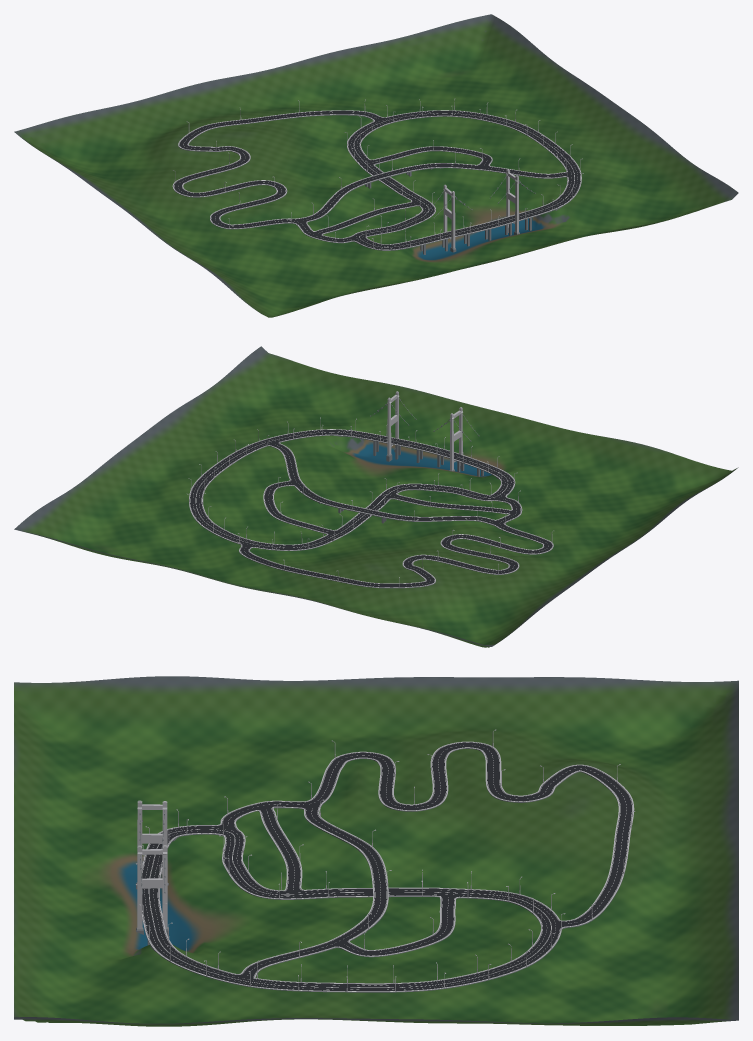
File: circuit_track.glb
3 renders of one model, top to bottom at view 1: azimuth 30°, elevation 25°; view 2: azimuth 150°, elevation 25°; view 3: azimuth 270°, elevation 25°, orthographic. The views are drawn at different scales.
Visible parts, largest first — view 1: Circuit_Terrain, Circuit_Road, Circuit_Markings, Scenery_Props; view 2: Circuit_Terrain, Circuit_Road, Circuit_Markings, Scenery_Props; view 3: Circuit_Terrain, Circuit_Road, Circuit_Markings, Scenery_Props.
Boxes of the visible parts, x1,y1,x2,y2 form: Circuit_Terrain: (14,14,738,317); Circuit_Road: (172,110,581,250); Circuit_Markings: (174,110,580,254); Scenery_Props: (173,98,583,248); Circuit_Terrain: (14,346,738,647); Circuit_Road: (189,429,553,588); Circuit_Markings: (190,391,552,587); Scenery_Props: (187,417,553,587); Circuit_Terrain: (14,676,738,1026); Circuit_Road: (141,741,634,992); Circuit_Markings: (136,742,632,991); Scenery_Props: (135,729,635,991).
Size of the model in its own units: 680 by 87.67 by 610.
35 materials, 2 textured.
